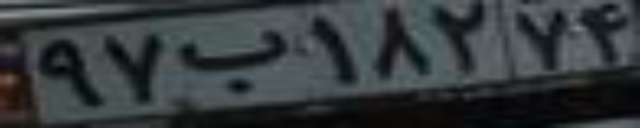1: (304, 17, 358, 84)
2: (430, 1, 487, 73)
4: (579, 3, 629, 64)
7: (100, 33, 166, 104), (515, 9, 569, 71)
8: (365, 8, 431, 78)
9: (35, 38, 104, 107)
be: (180, 30, 287, 94)
